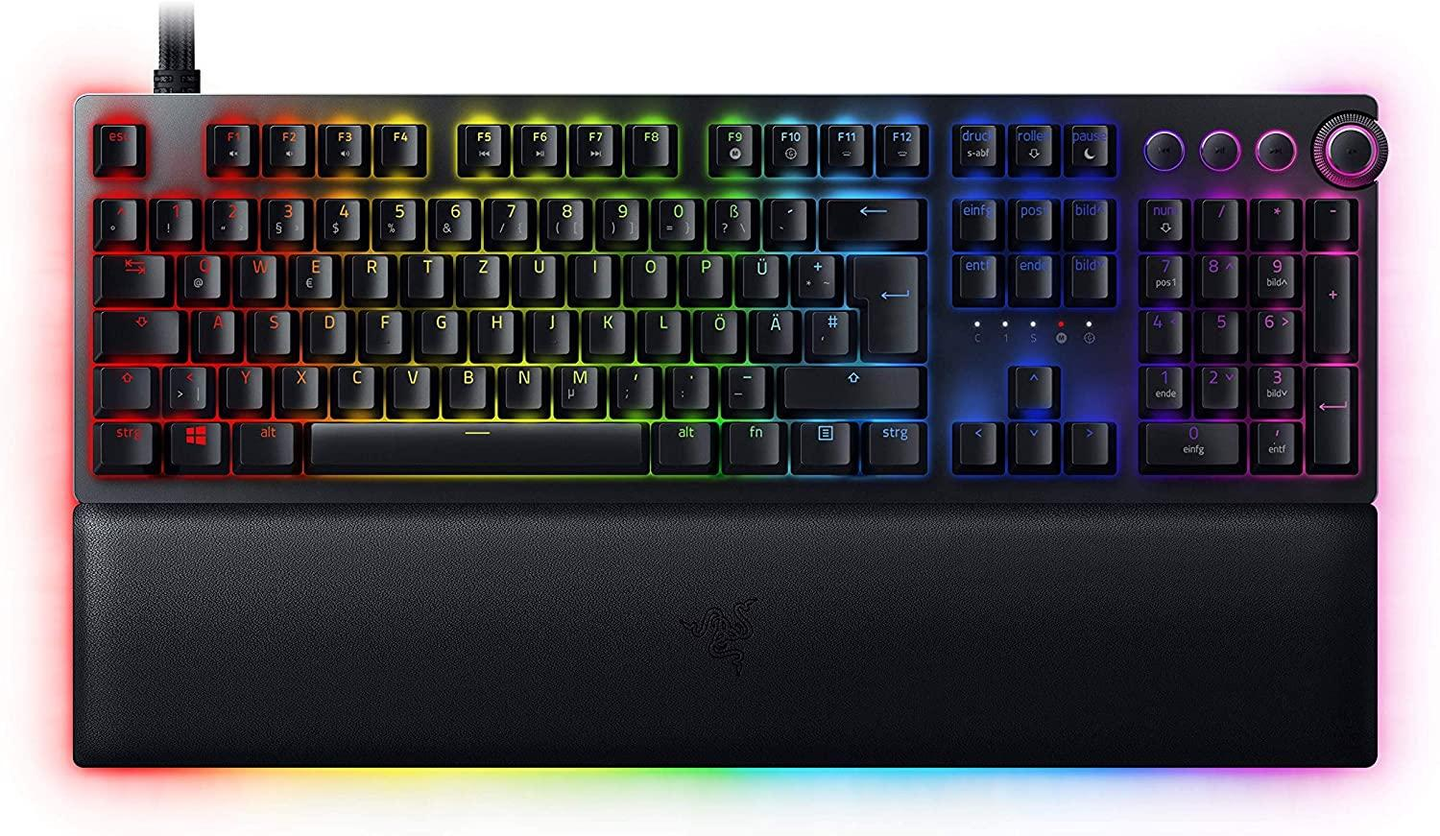0: (653, 193, 698, 240)
1: (150, 194, 194, 239)
2: (206, 194, 250, 240)
3: (263, 194, 306, 241)
4: (319, 194, 363, 240)
5: (374, 193, 420, 241)
6: (429, 193, 477, 241)
7: (486, 194, 531, 240)
8: (540, 194, 588, 241)
9: (597, 193, 643, 241)
a: (193, 305, 235, 353)
accent: (764, 195, 808, 240)
ae: (751, 304, 795, 353)
alt-left: (234, 417, 297, 465)
altgr-right: (652, 417, 712, 466)
b: (443, 361, 490, 407)
c: (333, 361, 377, 406)
caret: (95, 194, 137, 239)
comma: (611, 361, 656, 408)
d: (304, 305, 348, 353)
del: (822, 194, 919, 239)
e: (290, 249, 334, 298)
enter: (846, 249, 920, 353)
f: (361, 304, 404, 353)
g: (416, 304, 460, 353)
h: (471, 304, 516, 353)
hash: (805, 304, 850, 354)
i: (571, 250, 612, 297)
j: (528, 304, 571, 353)
k: (583, 304, 628, 353)
keyboard: (60, 85, 1399, 517)
l: (639, 304, 683, 353)
less: (164, 361, 208, 408)
m: (554, 362, 601, 409)
minus: (721, 361, 766, 408)
n: (499, 361, 544, 408)
o: (625, 250, 671, 298)
oe: (694, 304, 740, 354)
p: (682, 249, 726, 298)
plus: (793, 249, 836, 298)
point: (667, 361, 711, 407)
q: (178, 250, 223, 298)
r: (347, 249, 392, 298)
s: (249, 304, 292, 353)
shift-left: (96, 361, 152, 407)
shift-lock: (97, 305, 180, 352)
shift-right: (779, 361, 920, 409)
space: (304, 417, 645, 469)
ss: (708, 194, 754, 241)
strg-left: (95, 417, 154, 465)
strg-right: (862, 417, 923, 466)
t: (403, 249, 447, 297)
tab: (97, 250, 166, 296)
u: (514, 250, 558, 298)
ue: (736, 250, 781, 299)
v: (389, 361, 432, 407)
w: (235, 250, 277, 297)
x: (278, 361, 321, 407)
y: (221, 362, 264, 408)
z: (459, 249, 502, 297)
